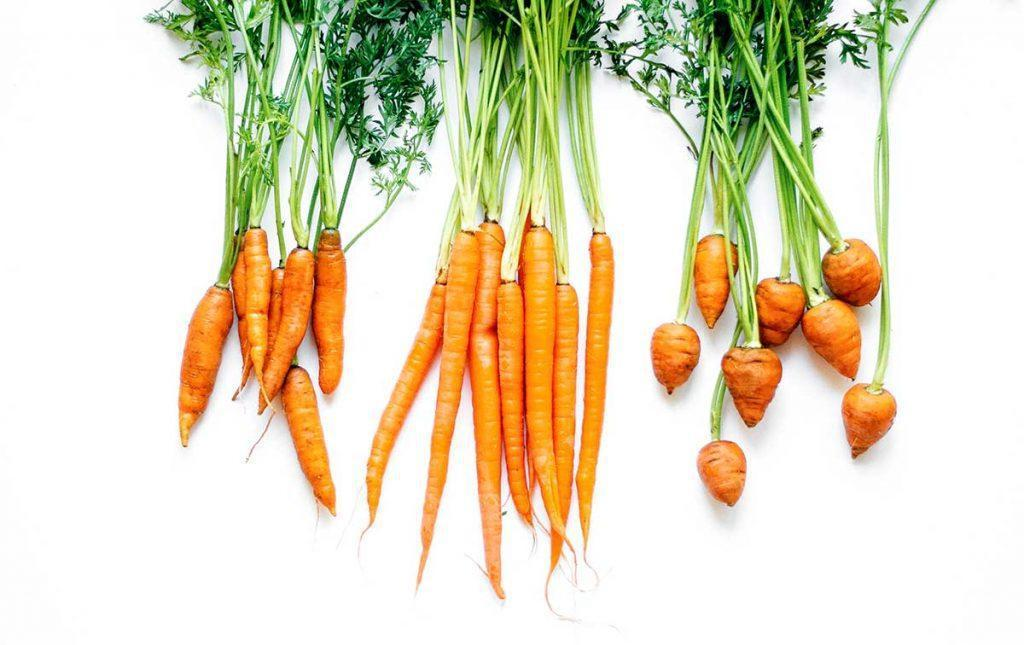carrot: (364, 234, 637, 593), (666, 225, 920, 493), (436, 225, 608, 576), (214, 226, 353, 517), (166, 263, 344, 459), (739, 268, 851, 368), (808, 228, 904, 310), (801, 293, 878, 388), (680, 236, 746, 330), (836, 380, 920, 453), (679, 436, 752, 515), (714, 347, 783, 424), (653, 322, 705, 410)
